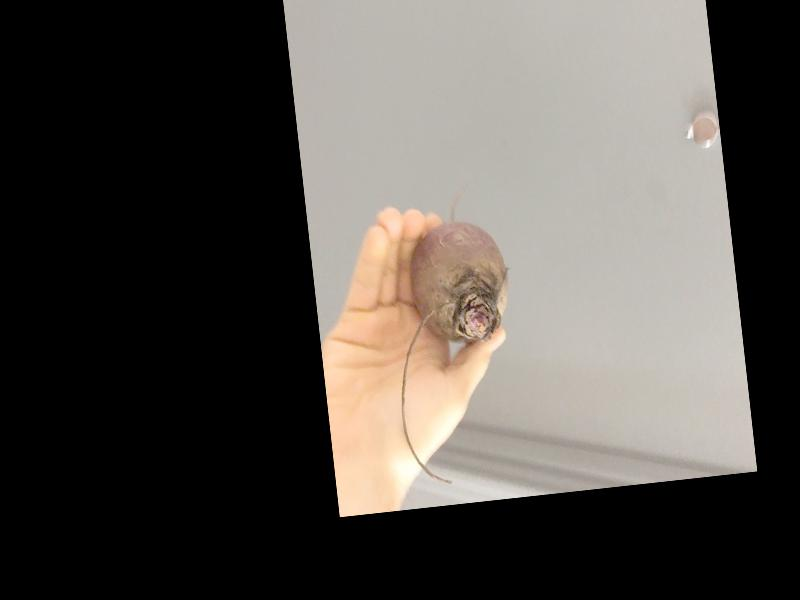Beet: (377, 186, 528, 487)
